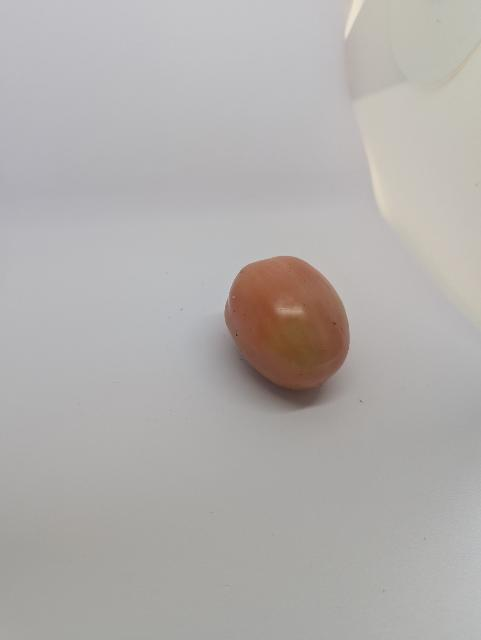turning: (216, 247, 355, 403)
